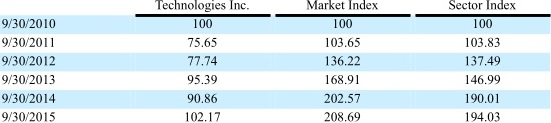column: (154, 1, 249, 122), (306, 1, 379, 122), (448, 1, 517, 122), (1, 1, 56, 122)
row: (1, 54, 551, 68), (1, 36, 551, 49), (1, 18, 551, 30), (1, 93, 551, 105), (1, 74, 551, 85), (1, 111, 551, 122), (1, 1, 551, 11)
